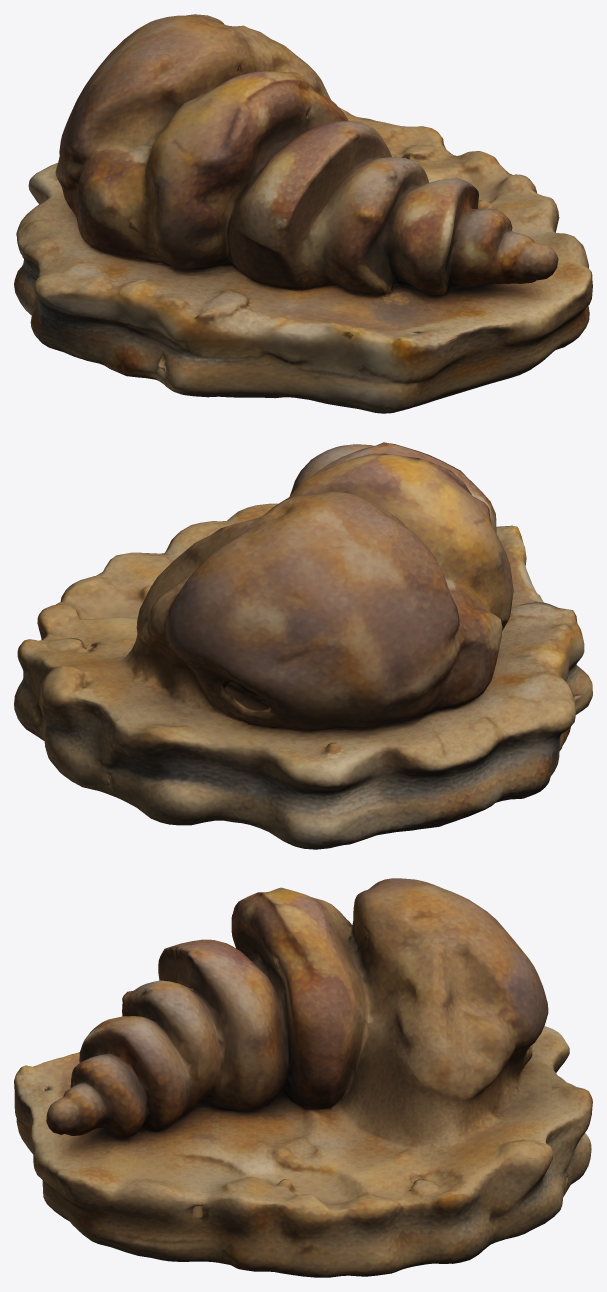
3 renders of one model, top to bottom at view 1: azimuth 30°, elevation 25°; view 2: azimuth 150°, elevation 25°; view 3: azimuth 270°, elevation 25°, orthographic. The views are drawn at different scales.
Parts seen in each view (by area): view 1: world; view 2: world; view 3: world.
Part boxes in pixels (bbox=[...]): world: bbox=[14, 14, 592, 413]; world: bbox=[14, 442, 592, 849]; world: bbox=[14, 878, 592, 1277].
Bounding box in the file's own units: 0.1038 × 0.0559 × 0.109.
Materials: 1 (1 with a texture image).
